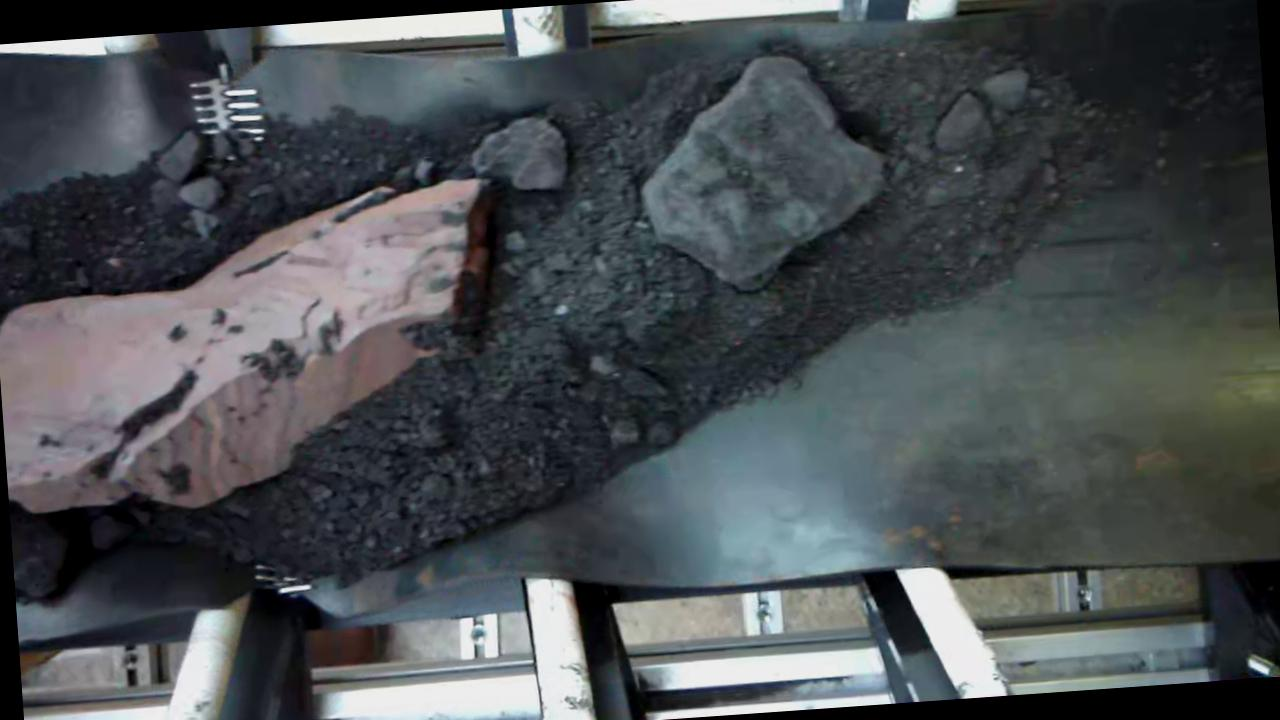conveyor: (0, 0, 1280, 629)
